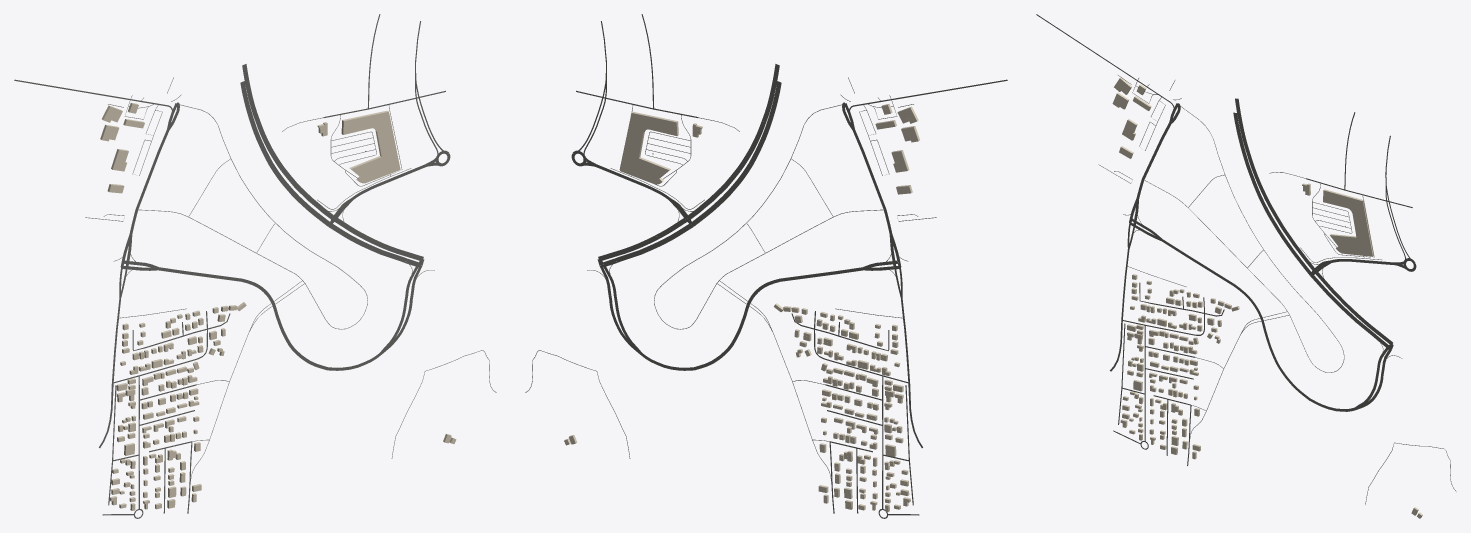
The model's file is historic-palestine-06_23_3476_3179.glb.
3 renders of one model, left to right at view 1: azimuth 30°, elevation 25°; view 2: azimuth 150°, elevation 25°; view 3: azimuth 330°, elevation 25°, orthographic. The views are drawn at different scales.
Visible parts, largest first — view 1: Building_.148, Road שדרות הרצל, Road 40, Road 40.001, Road 40.006; view 2: Building_.148, Road שדרות הרצל, Road 40, Road 40.001, Road 40.006; view 3: Building_.148, Road שדרות הרצל, Road 40, Road 40.001.
Part boxes in pixels (left/top/right/bottom): Building_.148: left=341, top=110, right=400, bottom=183; Road שדרות הרצל: left=158, top=267, right=380, bottom=370; Road 40: left=240, top=81, right=330, bottom=226; Road 40.001: left=242, top=64, right=284, bottom=170; Road 40.006: left=334, top=218, right=423, bottom=260; Building_.148: left=620, top=112, right=678, bottom=184; Road שדרות הרצל: left=641, top=267, right=863, bottom=370; Road 40: left=691, top=81, right=781, bottom=226; Road 40.001: left=737, top=64, right=779, bottom=170; Road 40.006: left=598, top=217, right=687, bottom=260; Building_.148: left=1323, top=189, right=1374, bottom=256; Road שדרות הרצל: left=1162, top=239, right=1355, bottom=411; Road 40: left=1233, top=112, right=1312, bottom=275; Road 40.001: left=1235, top=98, right=1271, bottom=206.
Size of the model in its own units: 1317 by 1243 by 8.7.
